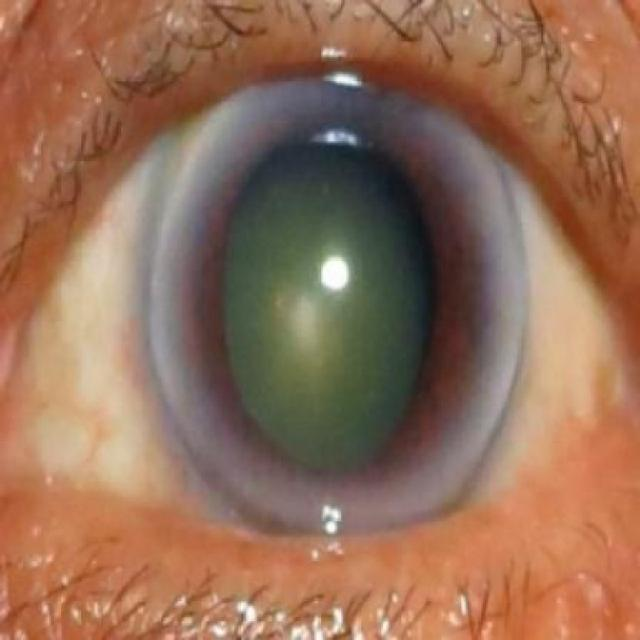Cataract: (142, 71, 530, 556)
